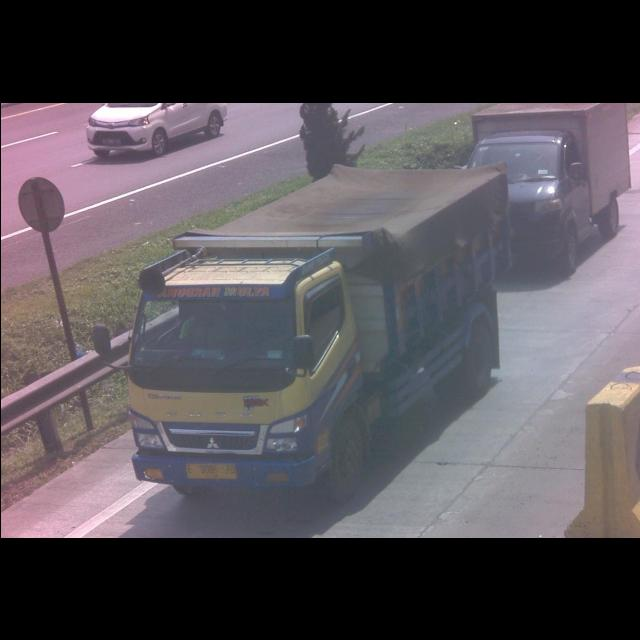plate: (181, 461, 239, 482)
